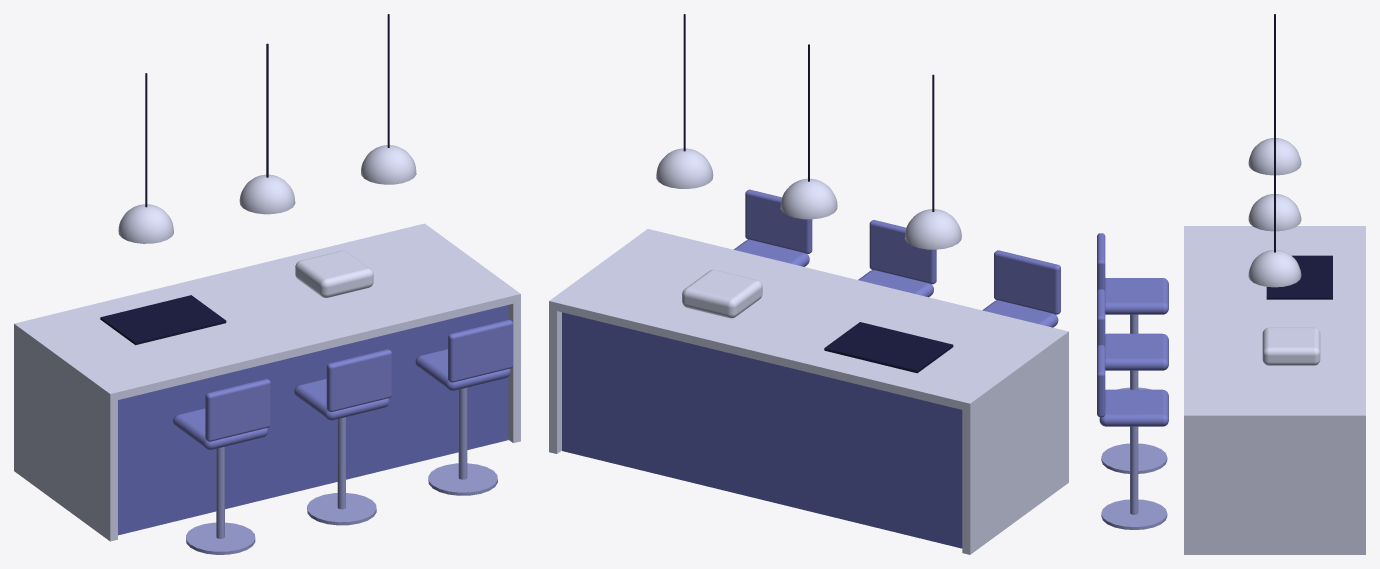
The model's file is kitchenIsland.glb.
3 renders of one model, left to right at view 1: azimuth 30°, elevation 25°; view 2: azimuth 150°, elevation 25°; view 3: azimuth 270°, elevation 25°, orthographic. The views are drawn at different scales.
Parts seen in each view (by area): view 1: base, top, kitchenIsland, stool2, stool0, stool1, cooktop, bowl, pendant2, pendant0, pendant1; view 2: base, top, kitchenIsland, stool0, stool1, stool2, cooktop, bowl, pendant0, pendant2, pendant1; view 3: top, kitchenIsland, stool2, stool1, stool0, bowl, cooktop, pendant2, pendant1, pendant0.
Boxes of the visible parts, x1,y1,x2,y2 form: base: (118, 305, 508, 535); top: (15, 223, 520, 401); kitchenIsland: (14, 223, 520, 541); stool2: (415, 319, 513, 495); stool0: (173, 379, 270, 554); stool1: (294, 349, 391, 525); cooktop: (100, 295, 226, 345); bowl: (295, 250, 373, 297); pendant2: (361, 14, 416, 184); pendant0: (118, 73, 173, 243); pendant1: (239, 43, 295, 214); base: (562, 312, 962, 548); top: (550, 229, 1062, 411); kitchenIsland: (549, 229, 1068, 554); stool0: (982, 250, 1060, 327); stool1: (858, 220, 936, 297); stool2: (734, 189, 812, 266); cooktop: (824, 322, 953, 373); bowl: (682, 269, 762, 318); pendant0: (904, 74, 961, 249); pendant2: (656, 14, 713, 188); pendant1: (780, 44, 837, 219); top: (1184, 226, 1365, 415); kitchenIsland: (1184, 226, 1365, 554); stool2: (1097, 345, 1168, 529); stool1: (1097, 289, 1168, 473); stool0: (1097, 233, 1168, 389); bowl: (1262, 327, 1320, 365); cooktop: (1266, 255, 1332, 299); pendant2: (1248, 126, 1301, 287); pendant1: (1248, 70, 1301, 231); pendant0: (1248, 14, 1301, 175).
Size of the model in its own units: 2.71 by 2.6 by 1.63.
